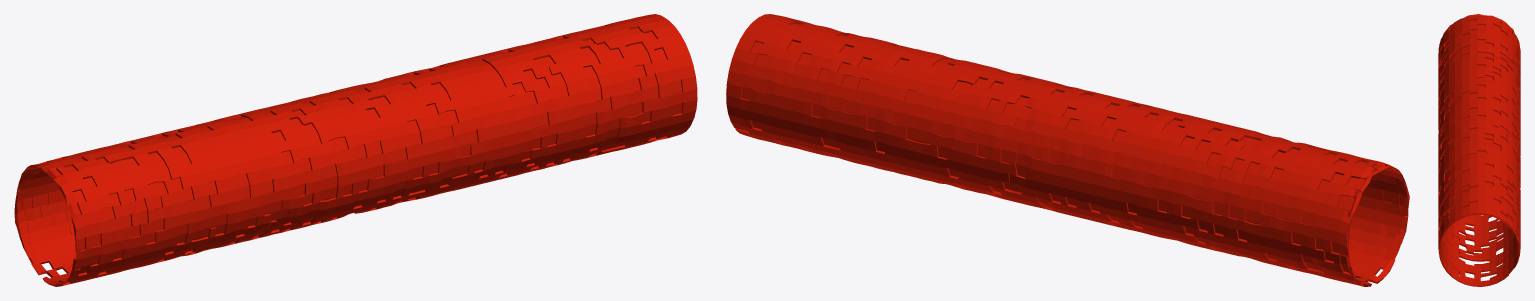
The model's file is CenterdAbstract Cylinder2.fbx.
3 renders of one model, left to right at view 1: azimuth 30°, elevation 25°; view 2: azimuth 150°, elevation 25°; view 3: azimuth 270°, elevation 25°, orthographic. The views are drawn at different scales.
Parts seen in each view (by area): view 1: Cylinder, Cylinder.001; view 2: Cylinder, Cylinder.001; view 3: Cylinder, Cylinder.001.
Part boxes in pixels (<box>): Cylinder: <box>14,14,696,286</box>; Cylinder.001: <box>16,21,697,283</box>; Cylinder: <box>727,14,1409,286</box>; Cylinder.001: <box>726,20,1407,273</box>; Cylinder: <box>1438,14,1520,286</box>; Cylinder.001: <box>1440,15,1518,286</box>.
Bounding box in the file's own units: 4.39 × 0.7655 × 0.765.
